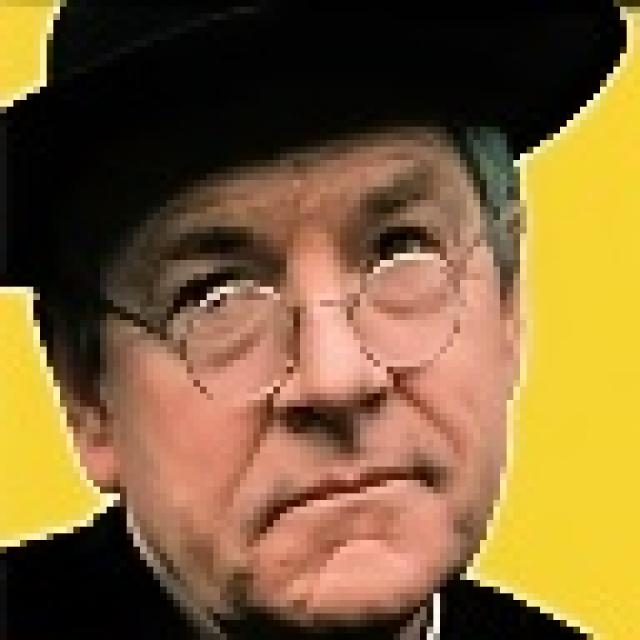sad: (72, 90, 504, 626)
